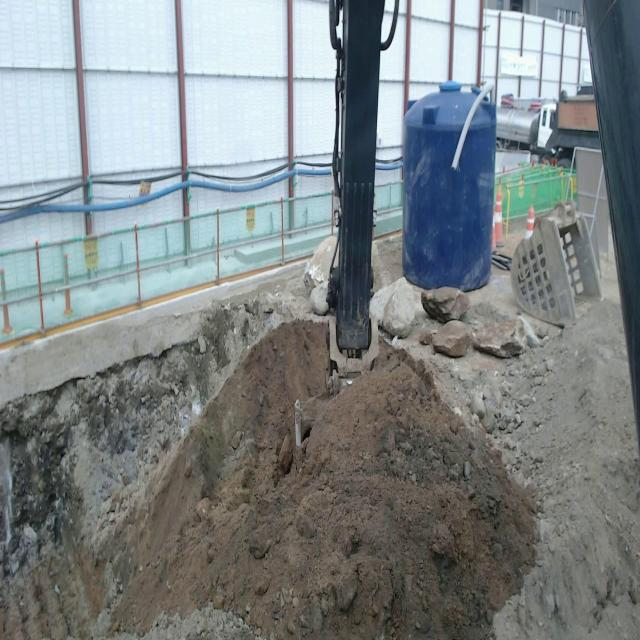cement: (0, 263, 301, 409)
red-sand: (0, 302, 640, 639)
stone: (370, 277, 415, 338), (303, 235, 337, 315), (472, 317, 526, 358), (421, 287, 469, 323), (432, 320, 471, 357), (371, 242, 381, 291)
